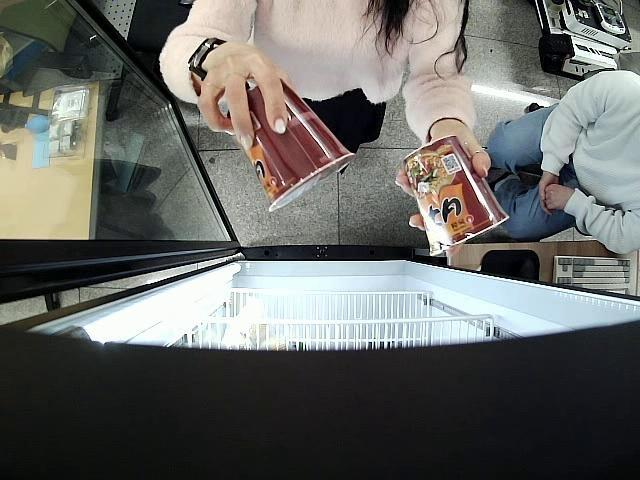06_nuguri_S: (226, 74, 356, 212), (403, 136, 508, 258)
